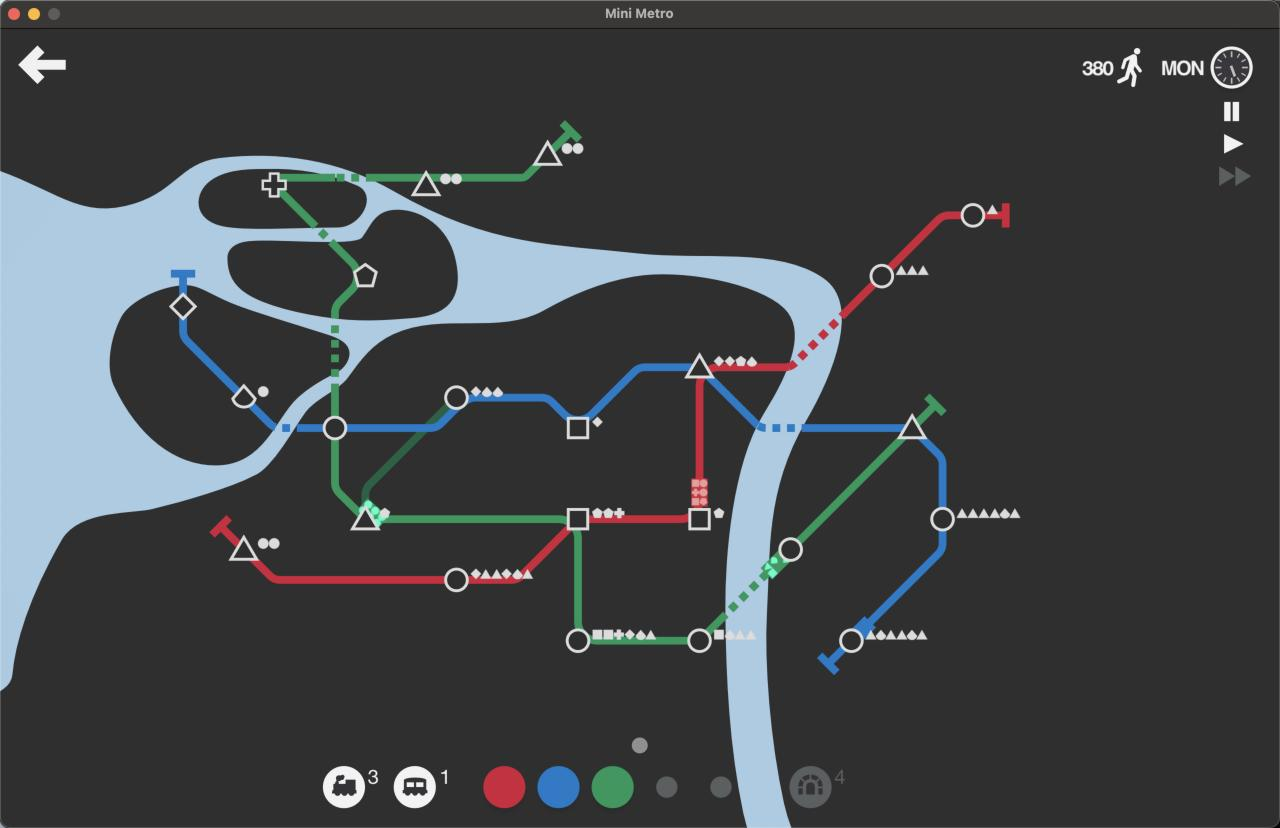CIRCLE: (777, 536, 804, 563), (960, 202, 986, 229), (838, 627, 864, 654), (444, 566, 470, 593), (687, 627, 713, 654), (869, 263, 895, 289), (929, 506, 955, 532), (565, 628, 591, 654), (322, 415, 348, 440), (444, 385, 469, 410)
CROSS: (260, 172, 286, 197)
GEM: (169, 293, 197, 320)
PENTAGON: (353, 263, 378, 288)
SQUARE: (567, 416, 590, 440), (688, 507, 711, 531), (566, 507, 590, 530)
TRIANGLE: (349, 501, 384, 532), (896, 412, 926, 440), (229, 534, 259, 562), (533, 139, 562, 167), (411, 170, 441, 197), (685, 352, 713, 378)
WEDGE: (232, 384, 257, 409)
